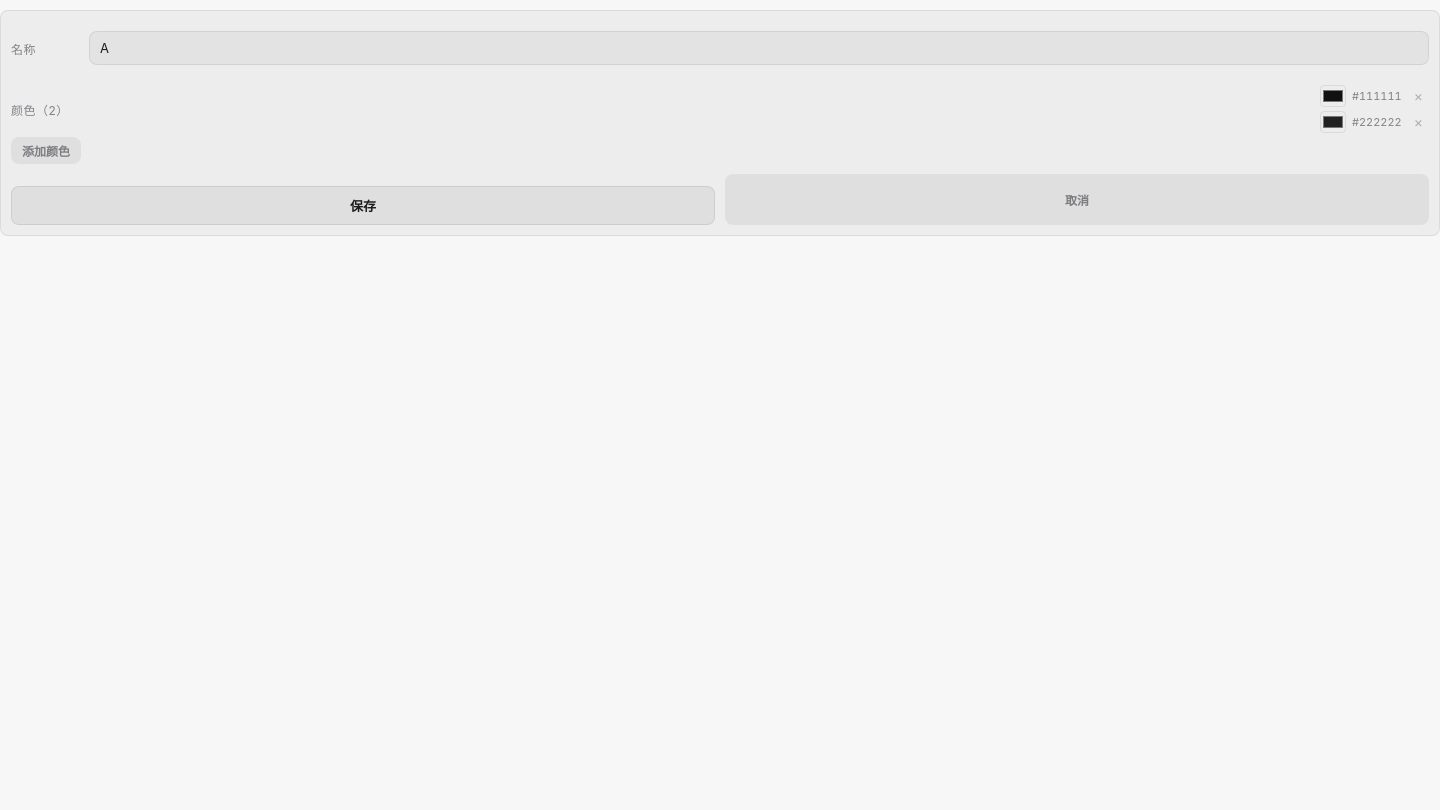
Test case: PaletteEditor › adds and removes colors within the allowed range
This screenshot has width=1440, height=810.
What coordinates should you click on to do the following:
click the button "添加颜色"
I would click on:
 (46, 150)
Its box is [11,137,81,164].
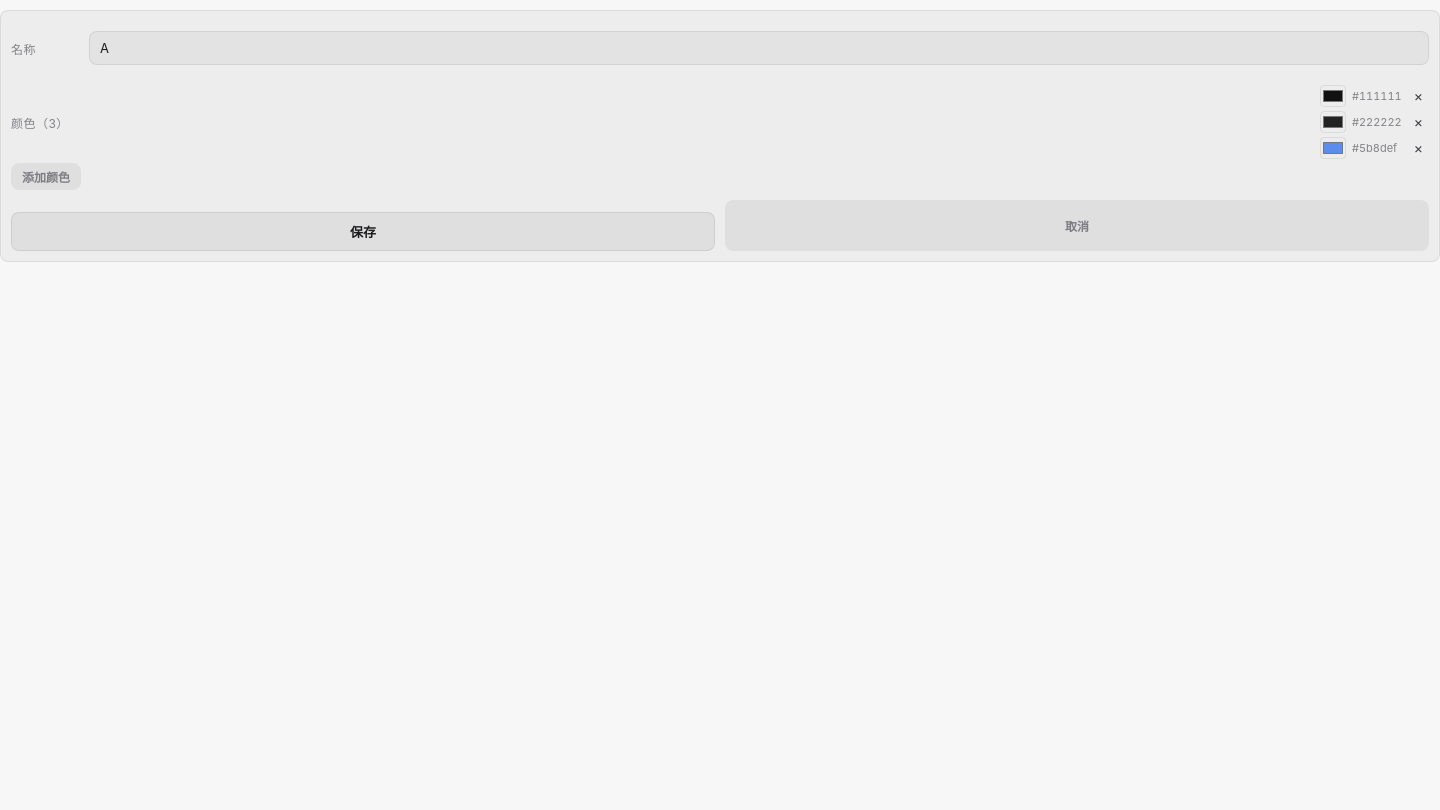
Now the colour field named "第 3 个颜色" is shown, box [1320,137,1346,159]
What coordinates should you click on to do the following:
click the button named "删除第 3 个颜色"
I would click on:
 (1418, 148)
Its box is [1408,140,1429,156].
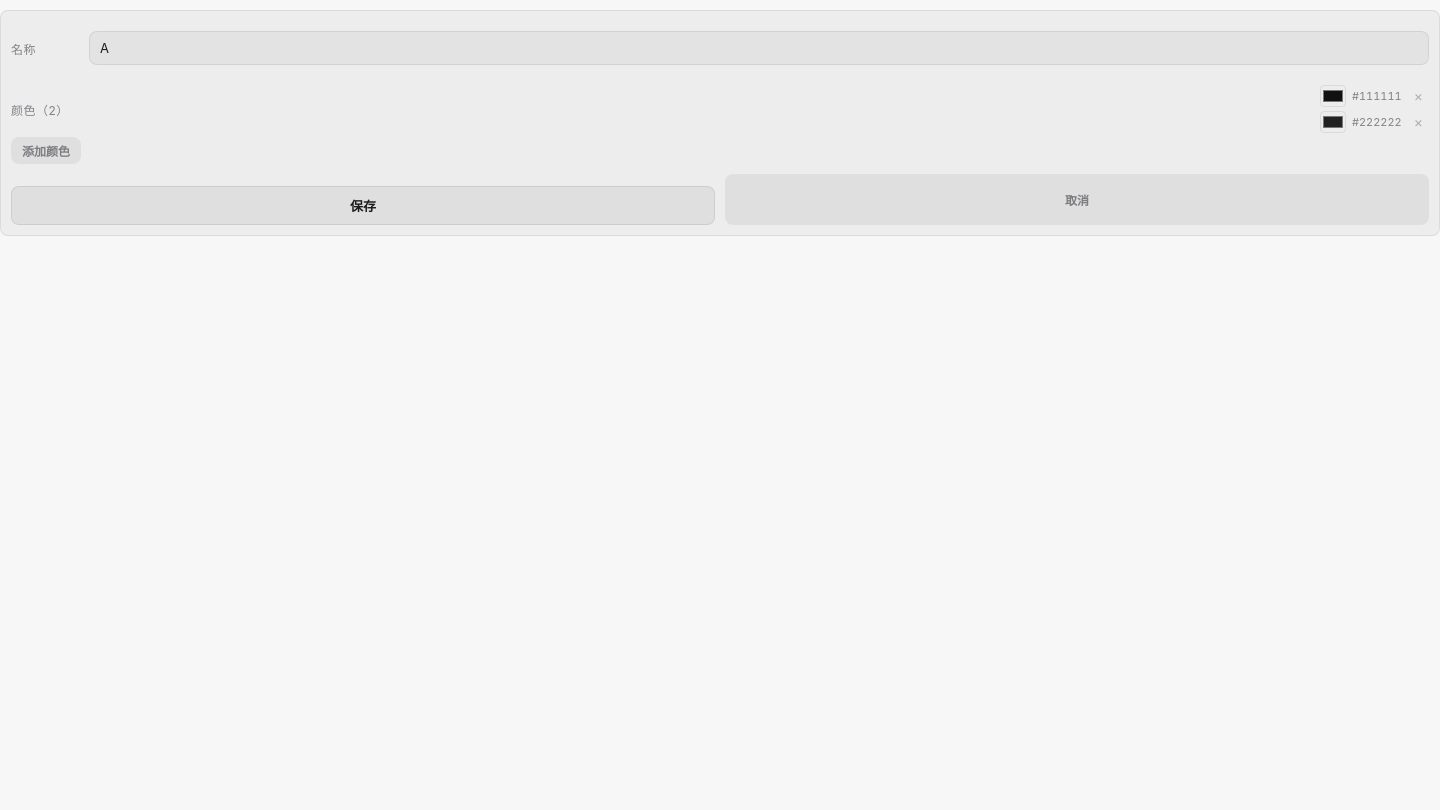
Now the button named "删除第 1 个颜色" is disabled, box [1408,88,1429,104]
